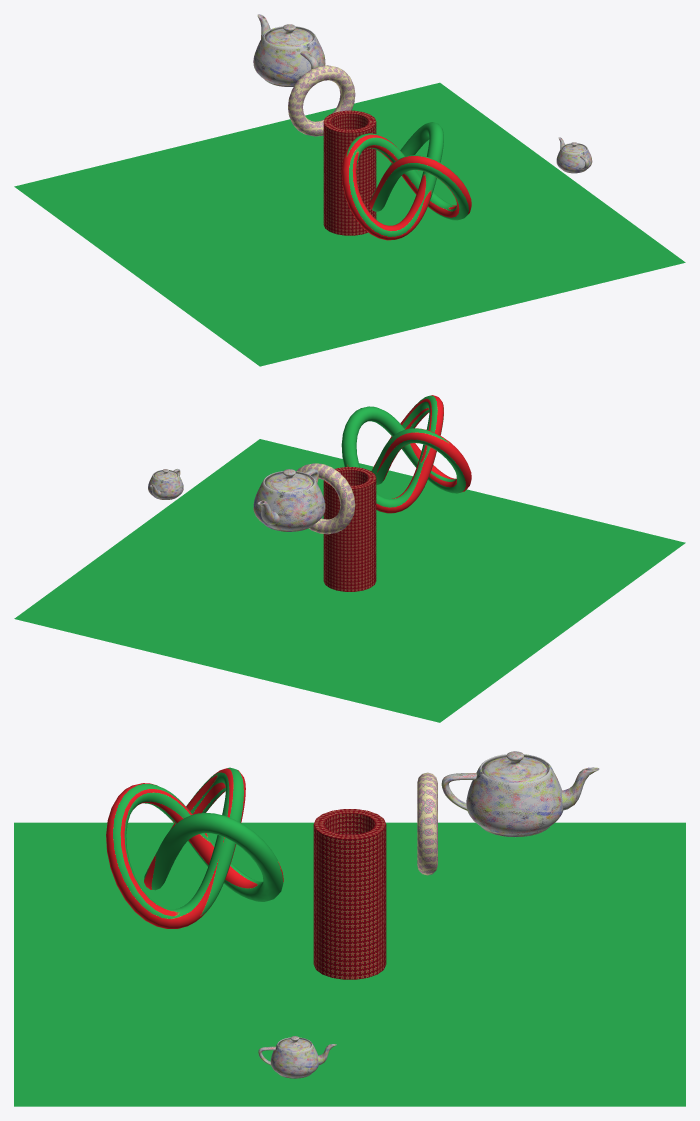
File: Silly.FBX
3 renders of one model, top to bottom at view 1: azimuth 30°, elevation 25°; view 2: azimuth 150°, elevation 25°; view 3: azimuth 270°, elevation 25°, orthographic. The views are drawn at different scales.
Visible parts, largest first — view 1: Plane001, Torus Knot001, Tube001, Teapot001, Torus001, Teapot002; view 2: Plane001, Torus Knot001, Tube001, Teapot001, Torus001, Teapot002; view 3: Plane001, Torus Knot001, Tube001, Teapot001, Torus001, Teapot002.
Boxes of the visible parts, x1,y1,x2,y2 form: Plane001: (14, 82, 685, 366); Torus Knot001: (341, 122, 471, 240); Tube001: (323, 110, 376, 235); Teapot001: (253, 14, 325, 86); Torus001: (288, 65, 355, 136); Teapot002: (556, 137, 592, 173); Plane001: (14, 439, 685, 722); Torus Knot001: (341, 395, 471, 513); Tube001: (323, 467, 376, 591); Teapot001: (253, 469, 325, 531); Torus001: (296, 463, 355, 534); Teapot002: (148, 469, 183, 499); Plane001: (14, 822, 685, 1106); Torus Knot001: (106, 767, 283, 928); Tube001: (313, 809, 386, 979); Teapot001: (441, 751, 599, 837); Torus001: (417, 772, 437, 875); Teapot002: (258, 1036, 336, 1078).
Bounding box in the file's own units: 132 × 44.99 × 130.
Materials: 5 (5 with a texture image).
